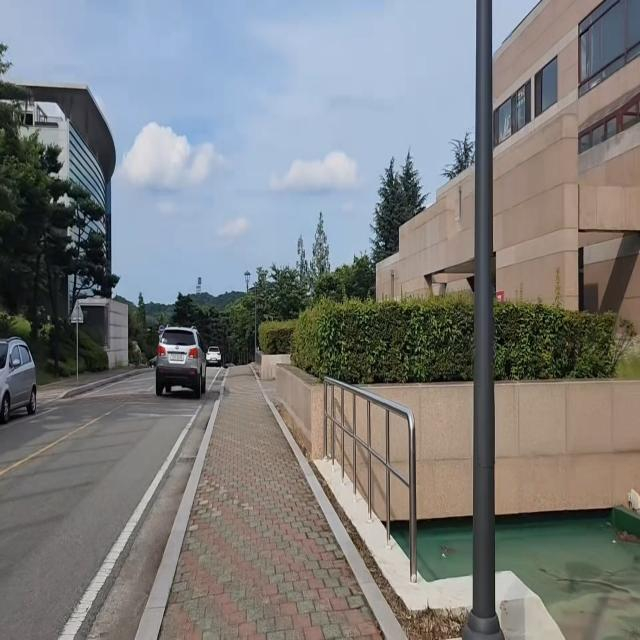obstacle: (461, 0, 507, 639), (153, 317, 210, 401), (0, 336, 42, 437), (202, 338, 227, 370)
road: (0, 361, 228, 640)
sidewalk: (136, 370, 412, 640)
